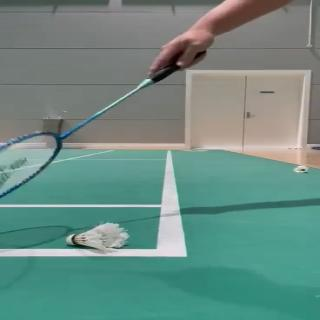Shuttle: (65, 220, 130, 255), (292, 165, 309, 173)
